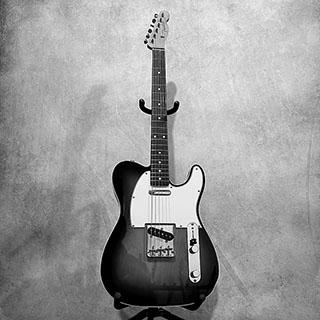Fender Telecaster: (99, 8, 221, 312)
SS: (146, 186, 179, 246)
